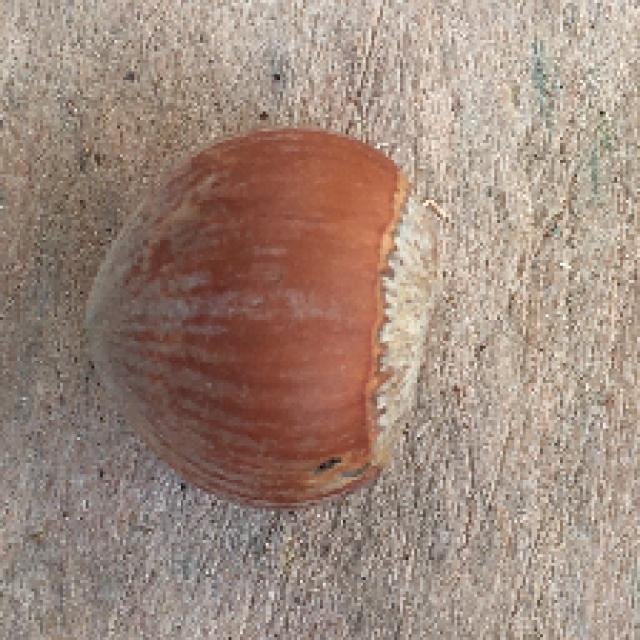qualityHazelnut: (85, 123, 458, 523)
